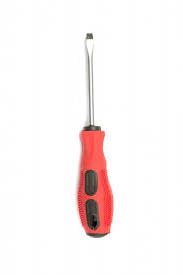Screwdriver: (66, 27, 128, 252)
